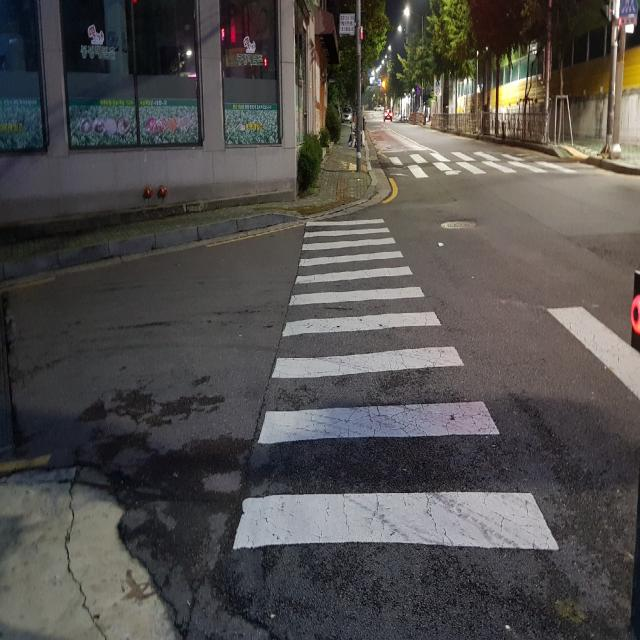횡단보도: (232, 216, 558, 552), (389, 153, 575, 173)
